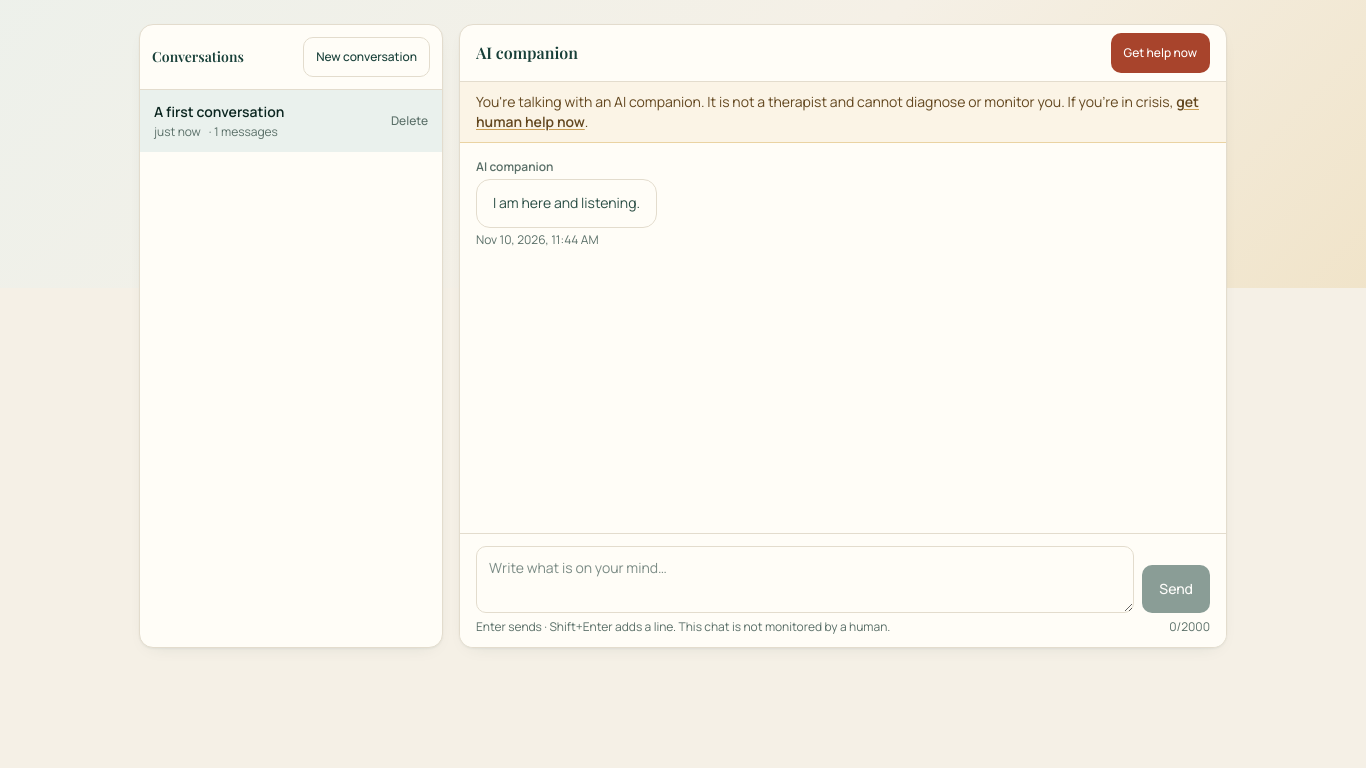
Scenario: ChatPage › renders a 503 AI_UNAVAILABLE as a retryable error and fabricates no assistant bubble
Expected: the text "I am here and listening." is shown, [476,179,657,228]
Step 1. Type "I need someone to talk to" into the text box named "Message to the AI companion" → (805, 579), box [476,546,1134,613]
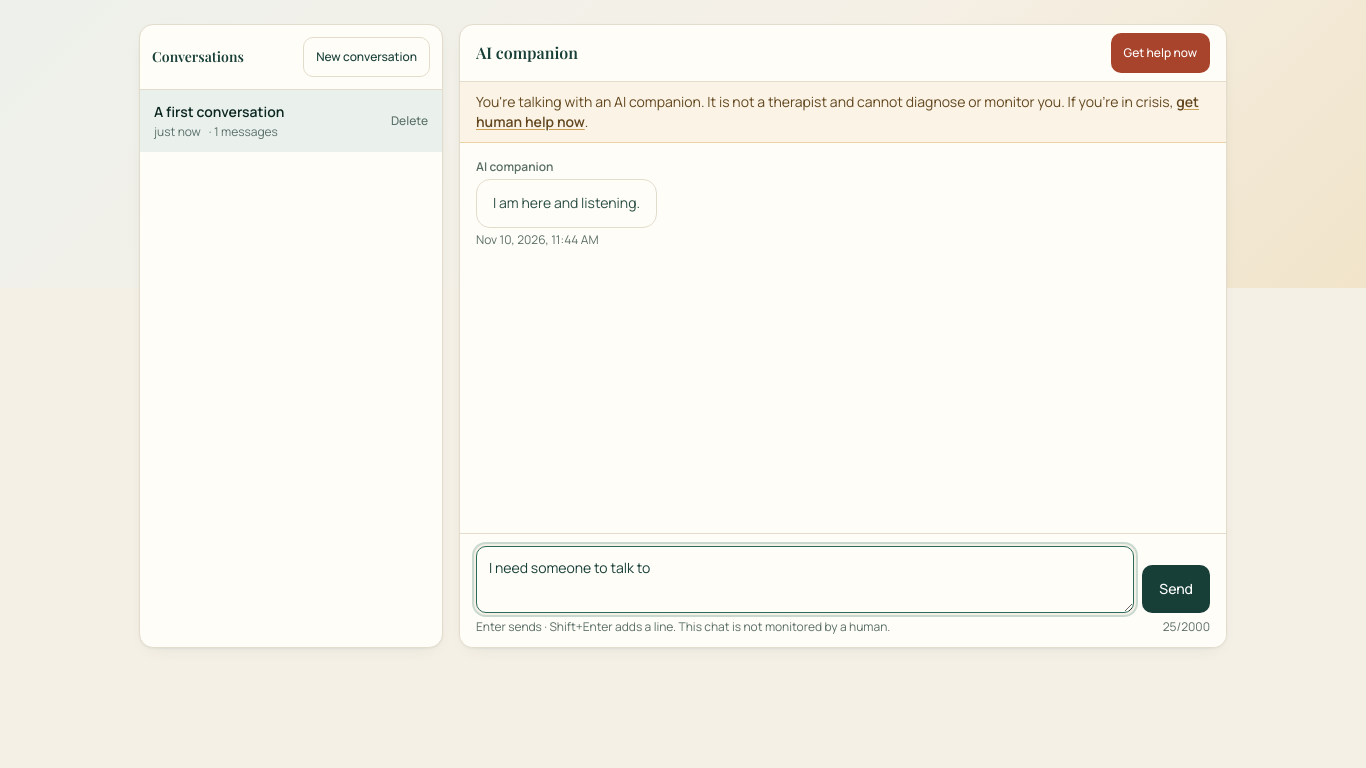
Step 2. Click the button with aria-label "Send message" → (1176, 589), box [1142,565,1210,613]
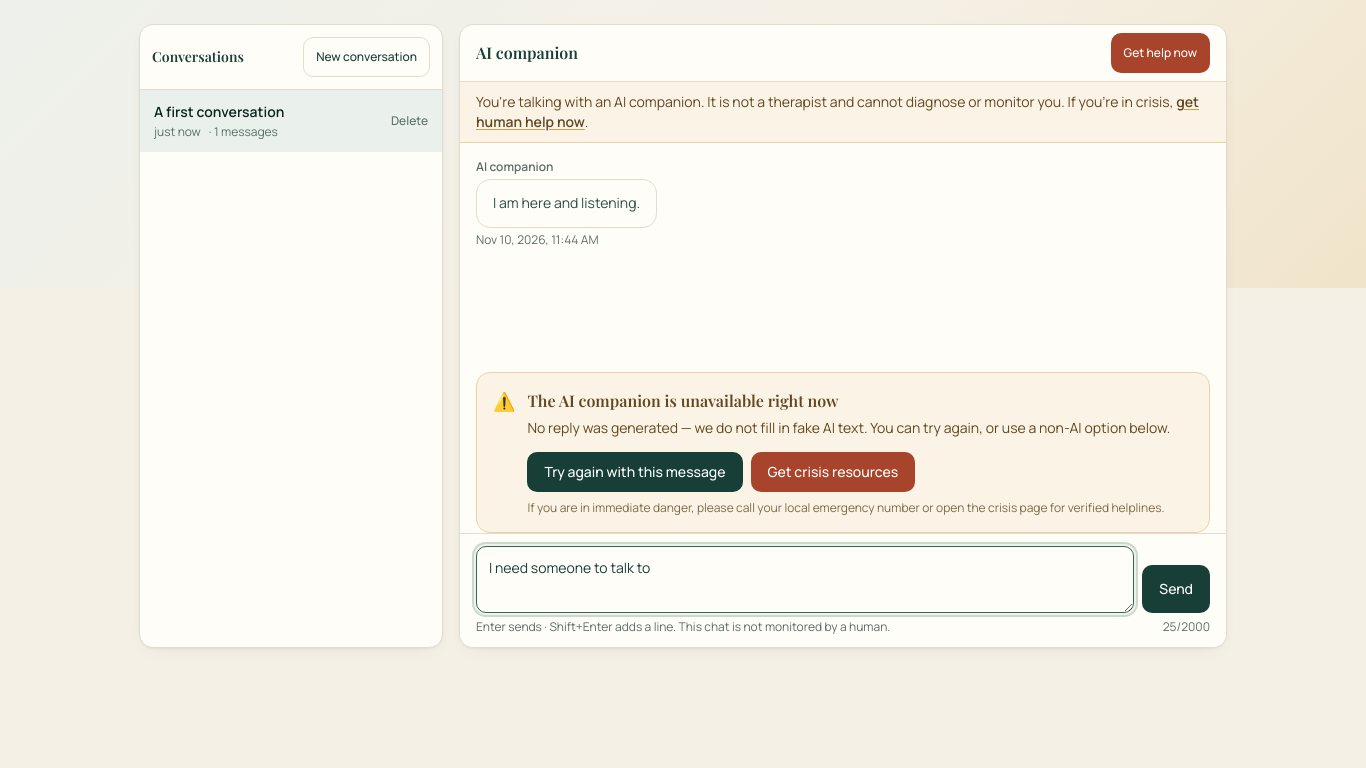
Expected: the heading "The AI companion is unavailable right now" is shown, [528,390,839,411]
Expected: the button "Try again with this message" is shown, [528,452,743,492]
Expected: the text "we do not fill in fake AI text" is shown, [528,418,1170,437]
